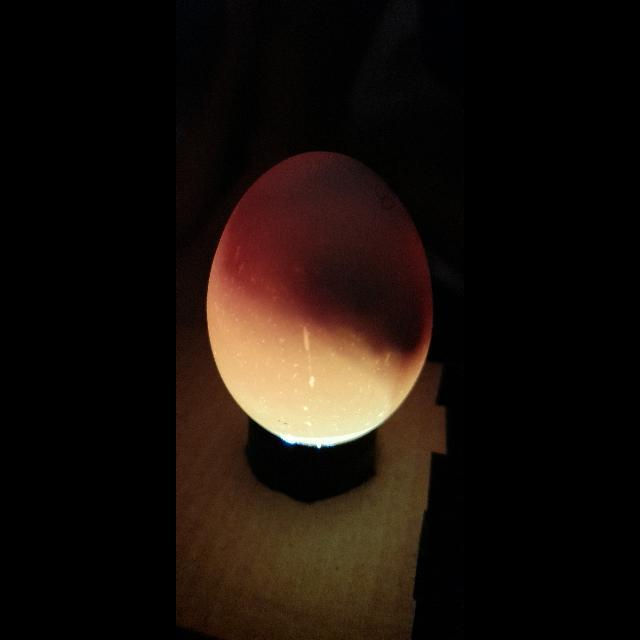Infertile: (204, 152, 436, 444)
